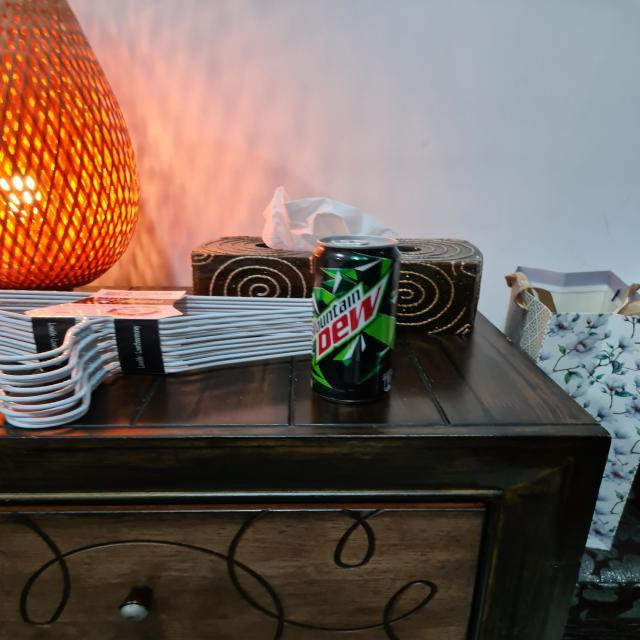can: (304, 229, 404, 407)
